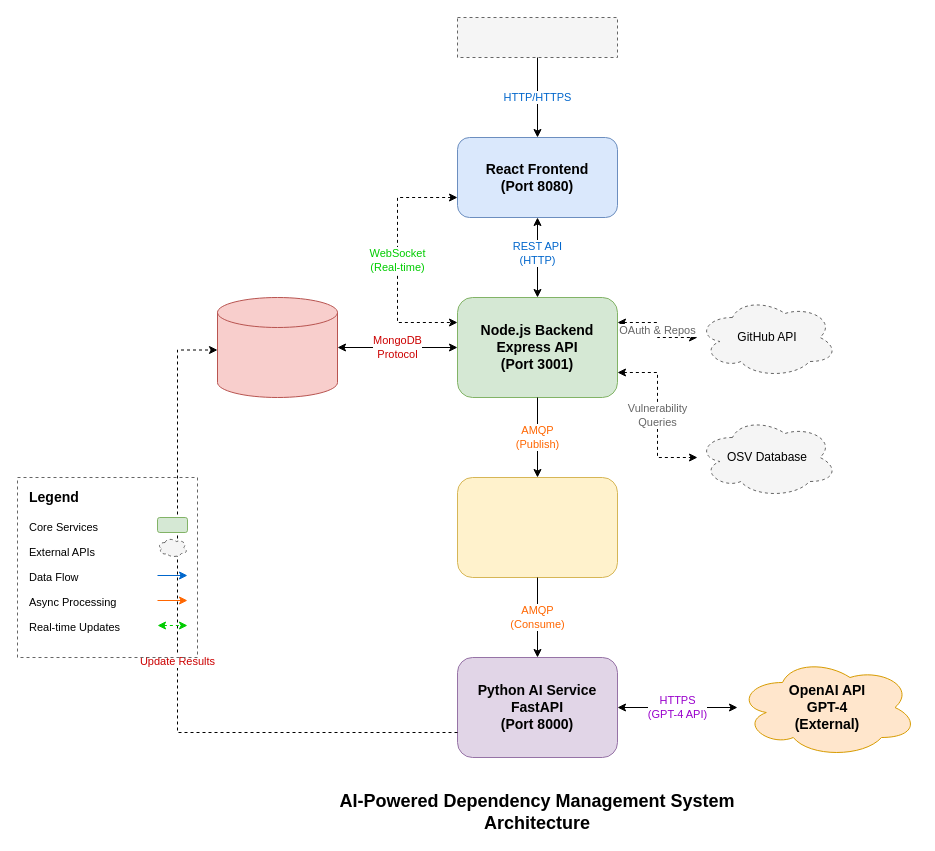
Image size: 935x851. Some labels were removed from this diagram. The centre of each missing label's shape, as x and y in pixels:
MongoDB Database (Port 27017): point (277, 347)
RabbitMQ Message Queue (Port 5672): point (537, 527)
User Browser: point (537, 37)
